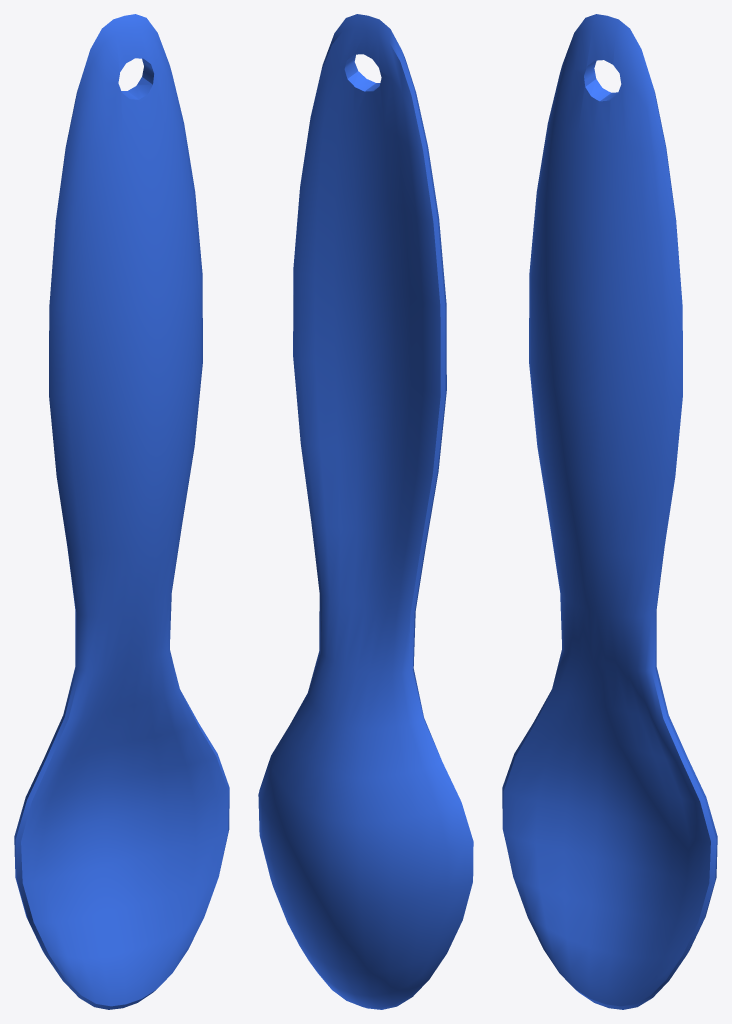
File: deliklikasik.fbx
3 views of the same model, side by side, from view 1: azimuth 30°, elevation 25°; view 2: azimuth 150°, elevation 25°; view 3: azimuth 330°, elevation 25° (orthographic).
Visible parts, largest first — view 1: Cube.113; view 2: Cube.113; view 3: Cube.113.
Boxes of the visible parts, x1,y1,x2,y2 form: Cube.113: [14, 14, 229, 1009]; Cube.113: [258, 14, 473, 1009]; Cube.113: [502, 14, 717, 1009].
Size of the model in its own units: 234 by 123 by 1037.
